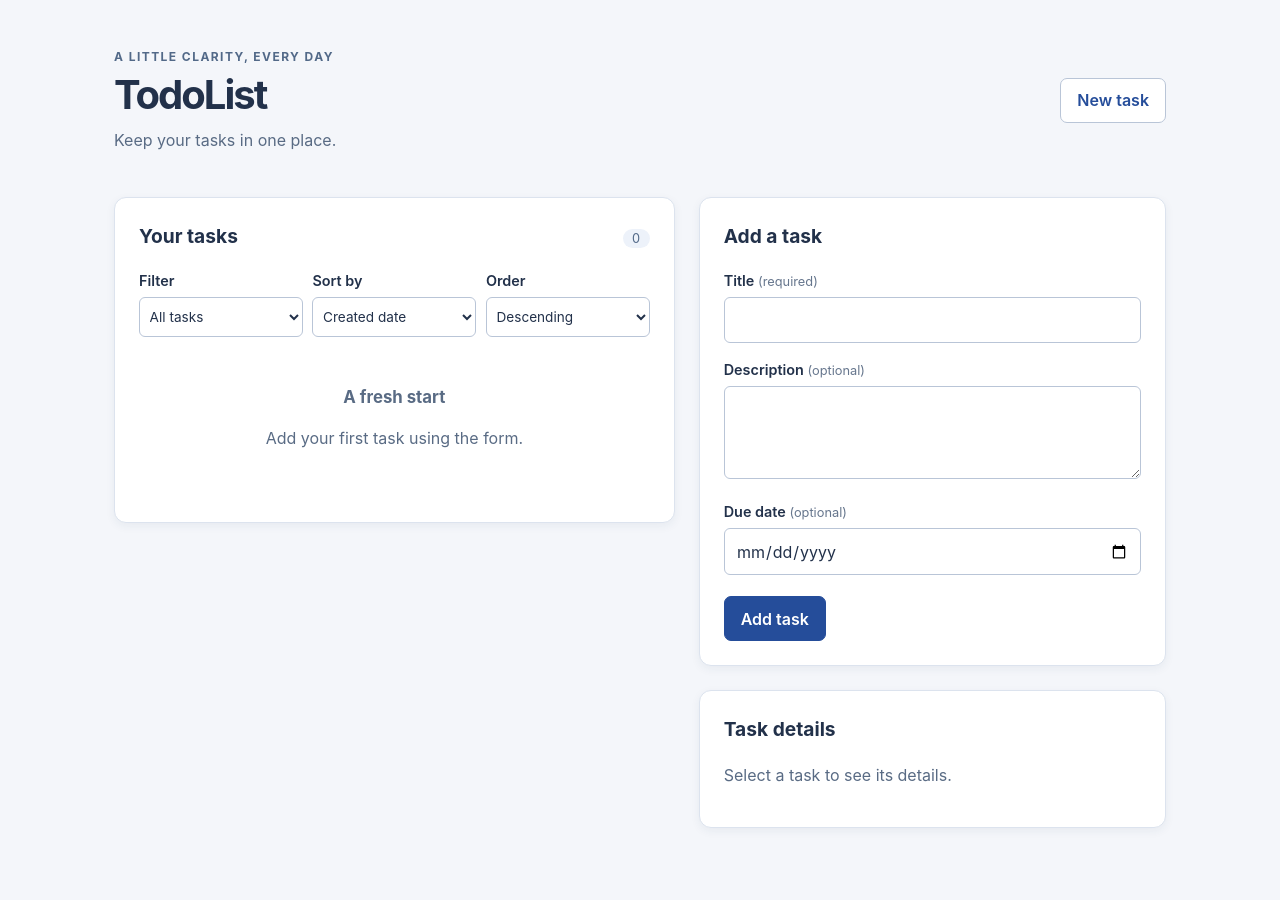
Test case: task workflow › retains input after a failed save and permits retry
Check: the heading "A fresh start" is shown, box [343, 387, 445, 407]
Type "Keep my draft" into the field labelled "Title (required)". click: (932, 320)
box: [724, 297, 1141, 343]
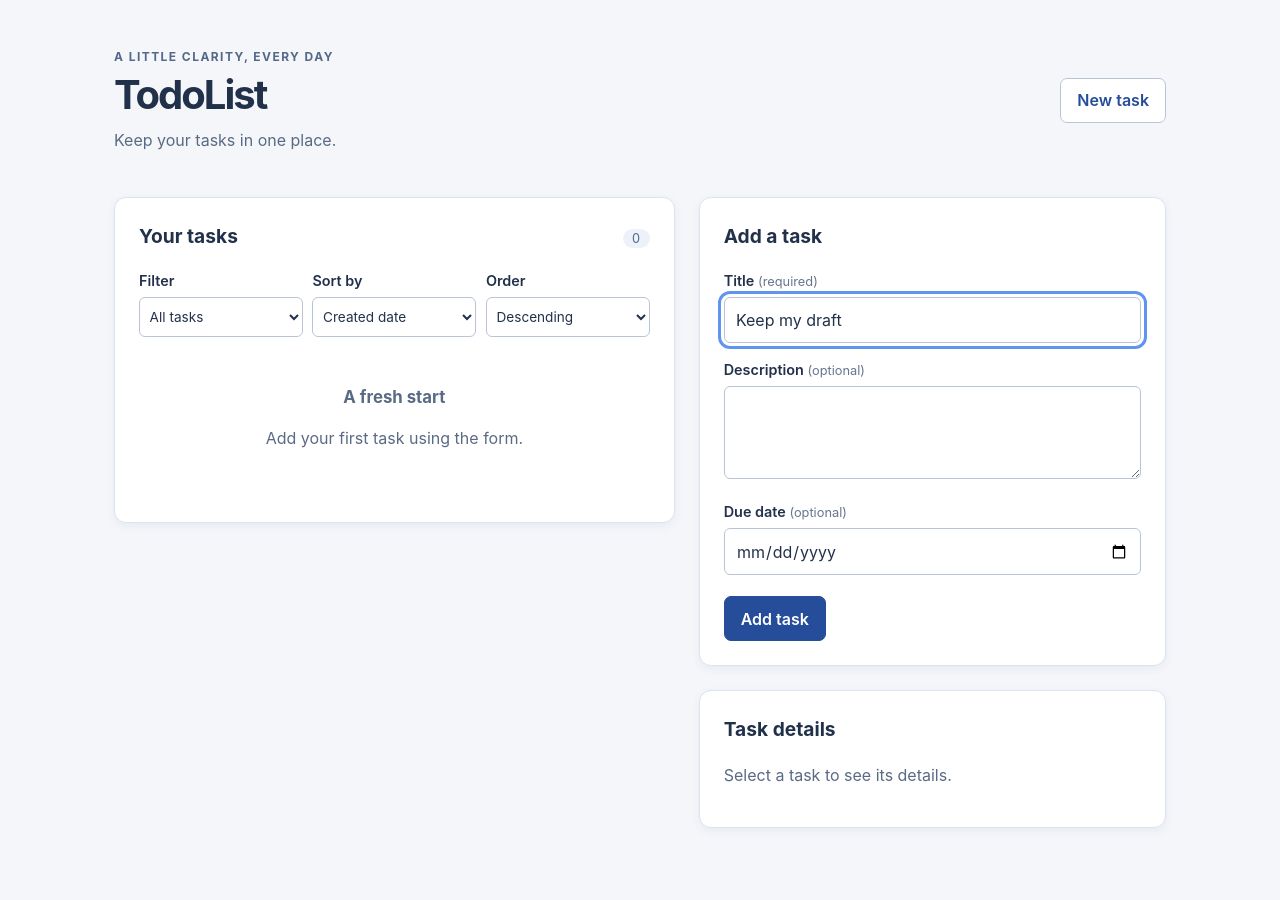
Type "Still here" into the text box labelled "Description (optional)". click: (932, 432)
box: [724, 386, 1141, 479]
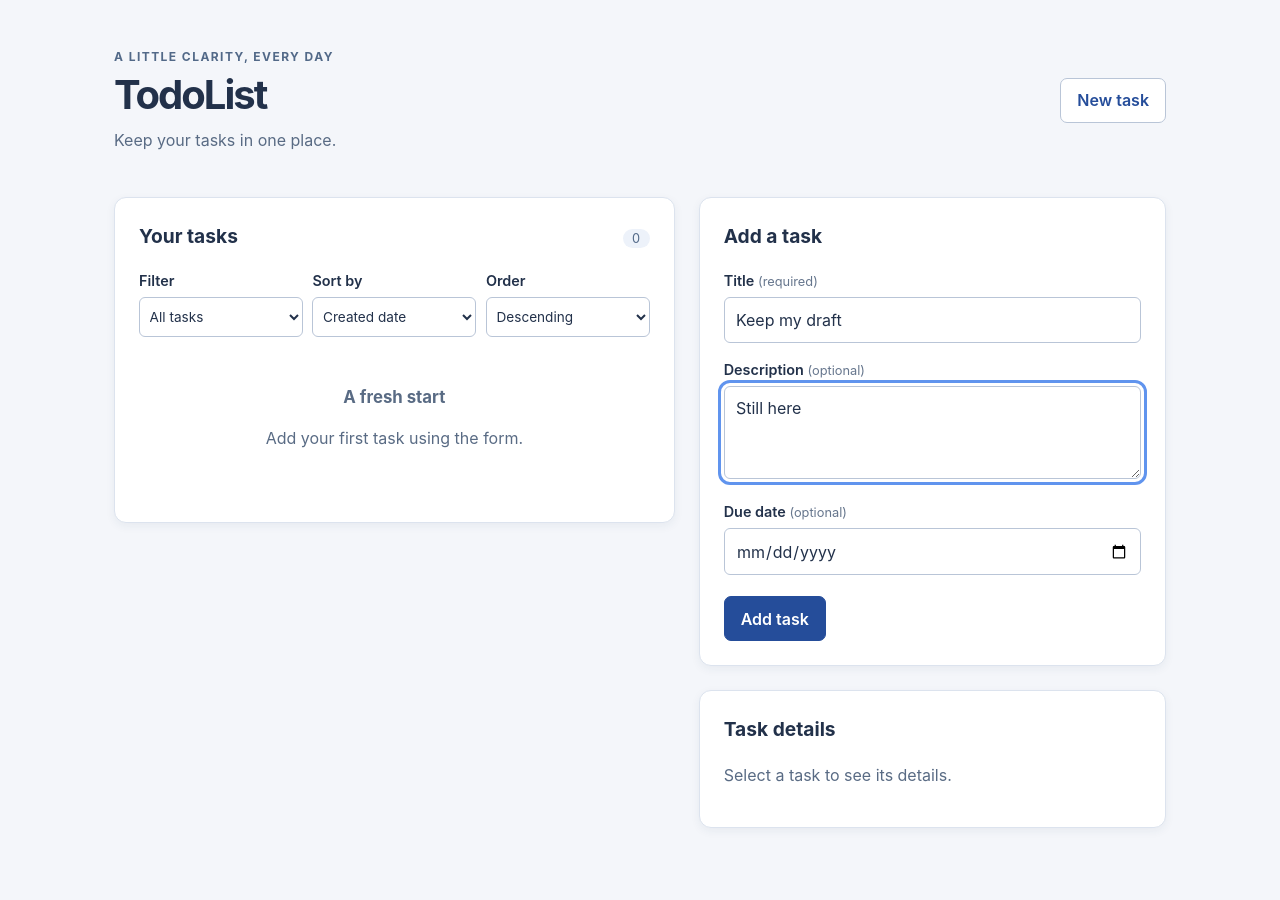
Click the button "Add task". click: (775, 619)
box: [724, 596, 826, 641]
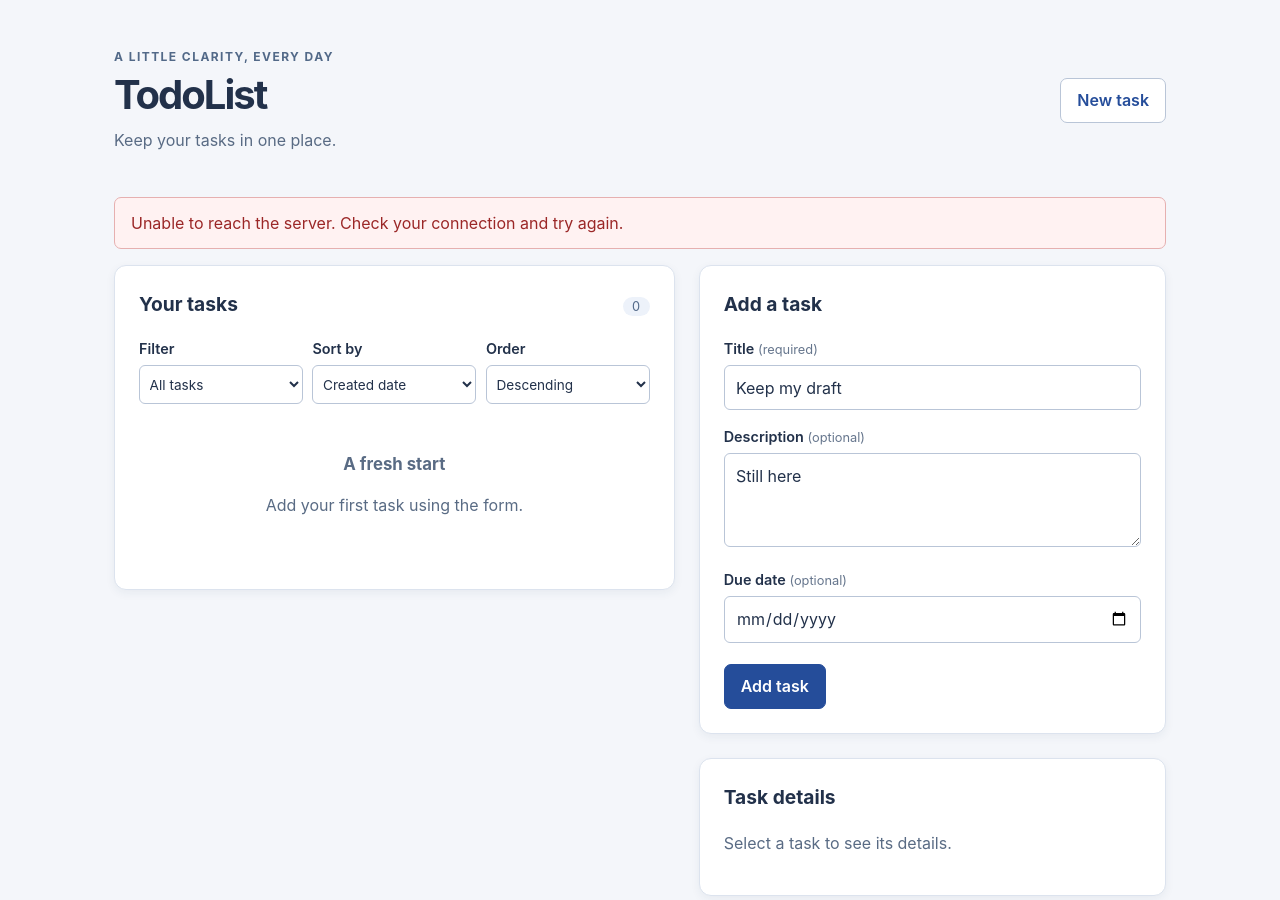
Check: the message shows "Unable to reach the server", box [131, 213, 623, 233]
Click the button "Add task". click: (775, 686)
box: [724, 664, 826, 709]
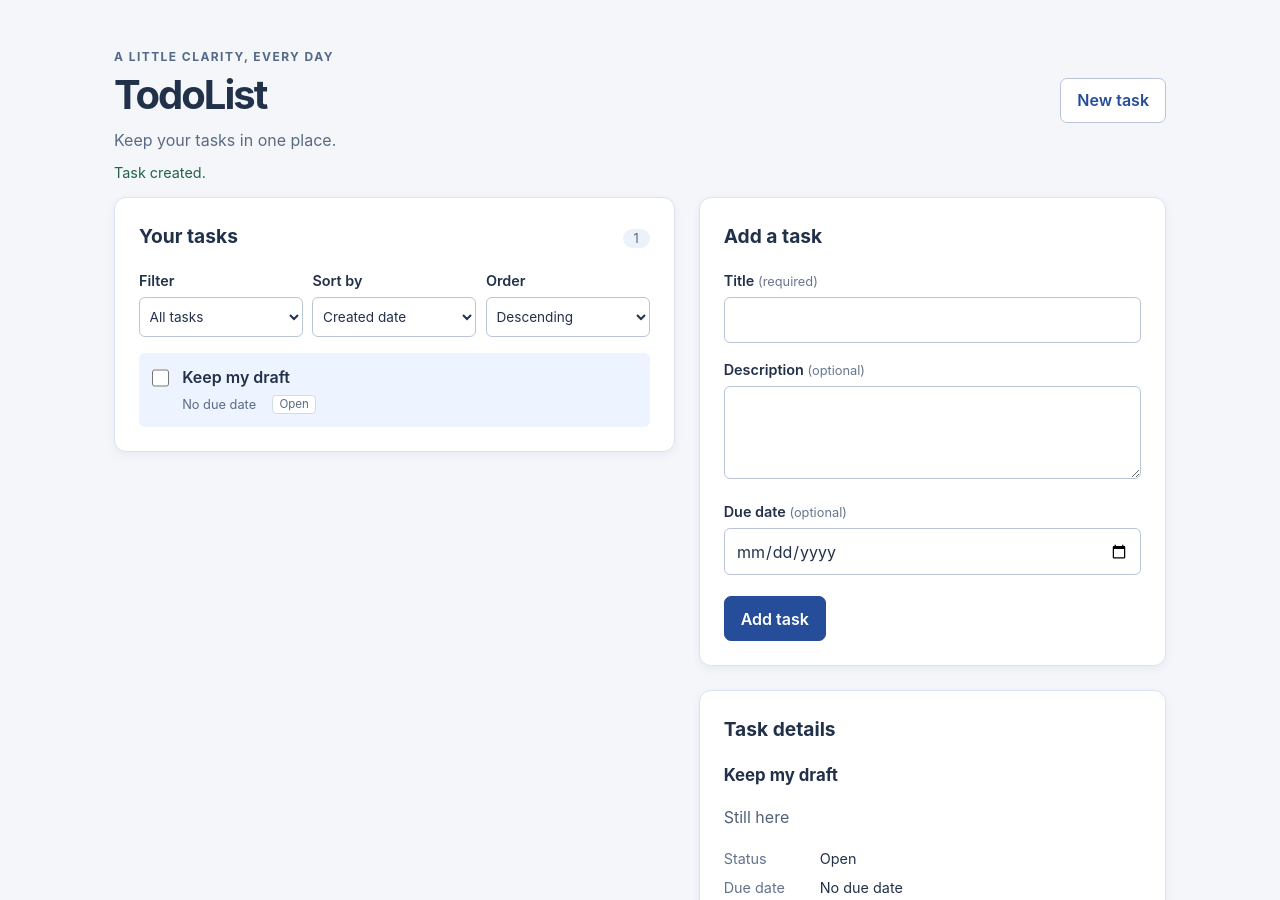
Check: the text "Task created." is shown, box [114, 164, 206, 181]
